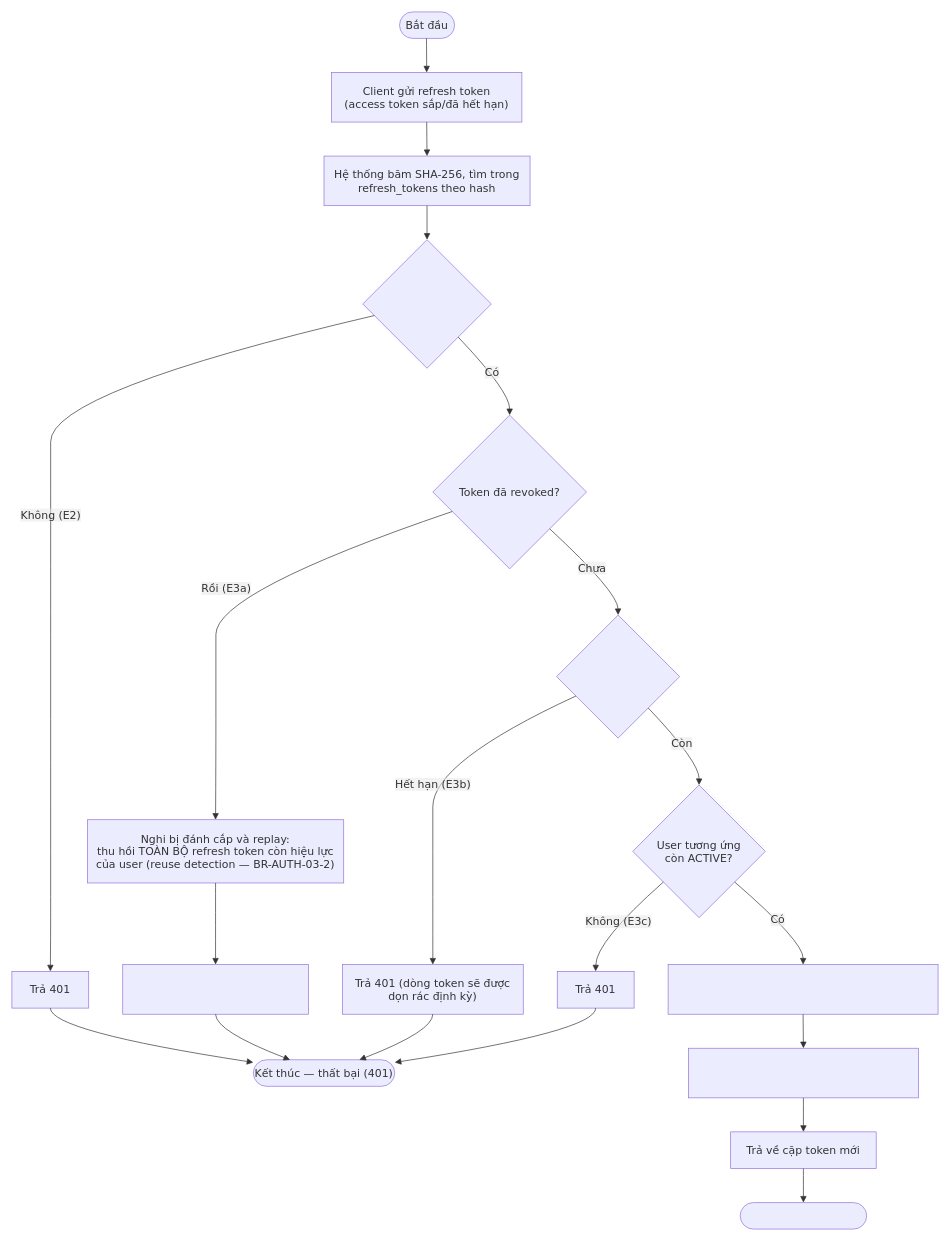
Some shapes in this 950 by 1241 pixel diagram are drawn without their labels. The shapes that lost their labels are listed below. From the top down, each one's centre as x and y in pixels, then its label:
At point (426, 303): "Tìm thấy hash?".
At point (618, 676): "Token còn hạn (expires_at)?".
At point (215, 989): "Trả 401 — buộc đăng nhập lại trên mọi thiết bị".
At point (802, 989): "Hệ thống đặt revoked_at = now() cho token cũ (rotation bắt buộc — BR-AUTH-03-1)".
At point (803, 1073): "Phát cặp token mới: access token JWT + refresh token mới (lưu hash)".
At point (803, 1215): "Kết thúc — thành công".
